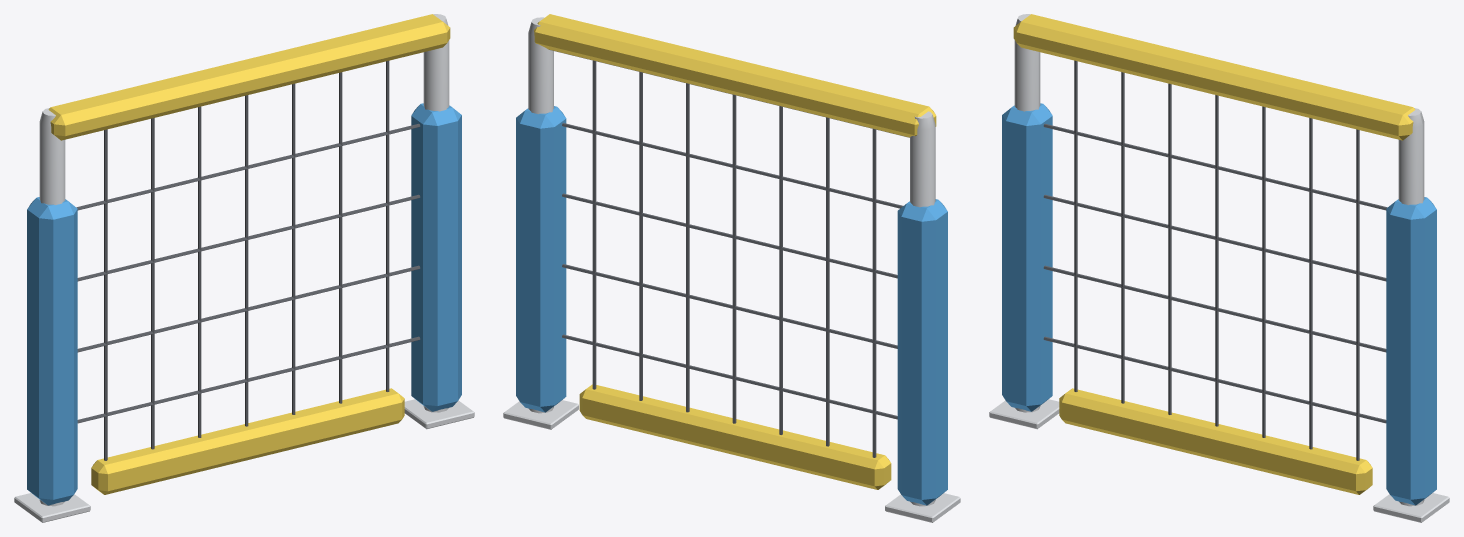
Rendered from trampoline-park-and-soft-play-soft-play-net-wall-modul-17a1dd50__34628.glb.
3 renders of one model, left to right at view 1: azimuth 30°, elevation 25°; view 2: azimuth 150°, elevation 25°; view 3: azimuth 330°, elevation 25°, orthographic.
Visible parts, largest first — view 1: soft-play-net-wall-module; view 2: soft-play-net-wall-module; view 3: soft-play-net-wall-module.
Part boxes in pixels (bbox=[...]): soft-play-net-wall-module: bbox=[14, 14, 474, 522]; soft-play-net-wall-module: bbox=[503, 14, 960, 522]; soft-play-net-wall-module: bbox=[989, 14, 1449, 522].
Size of the model in its own units: 2.12 by 1.86 by 0.2399.
